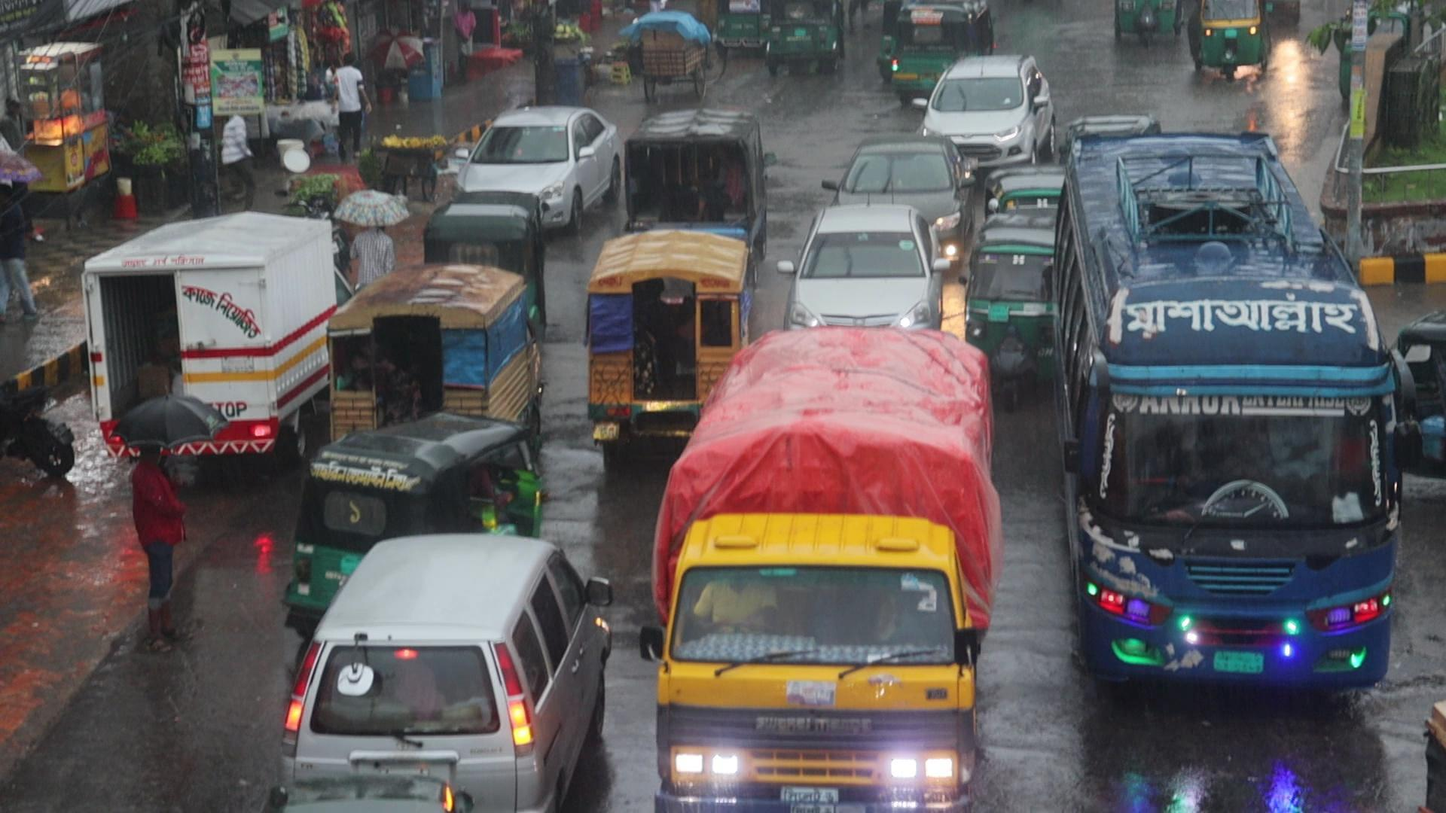Bus: (1052, 122, 1408, 700)
Car: (276, 529, 615, 813), (785, 193, 941, 328), (914, 50, 1054, 146)
Truck: (645, 316, 996, 813), (325, 255, 544, 425), (583, 227, 750, 383)
